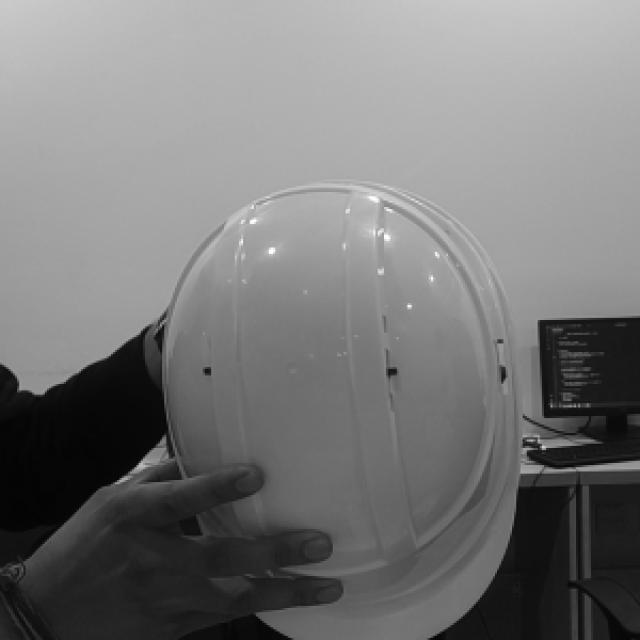safety_helmet: (162, 179, 516, 640)
